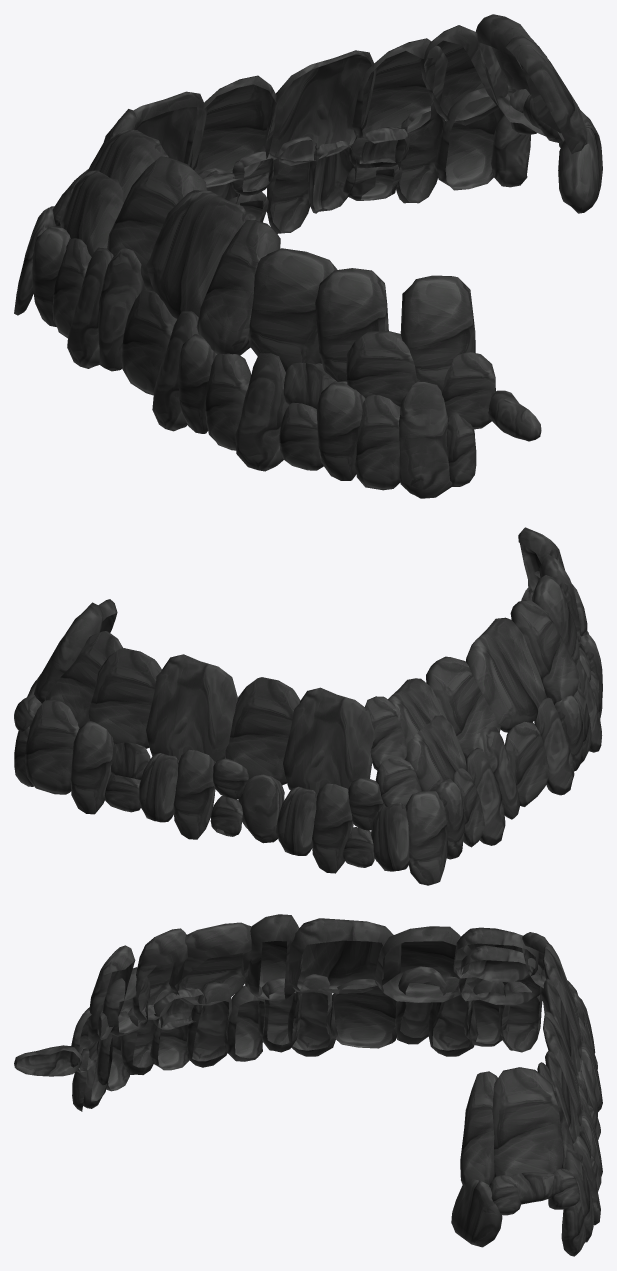
The model's file is rootIslandRocksMainShape1.dae.
The picture shows the model from 3 angles, top to bottom: view 1: azimuth 30°, elevation 25°; view 2: azimuth 150°, elevation 25°; view 3: azimuth 270°, elevation 25°; orthographic projection. The views are drawn at different scales.
Parts seen in each view (by area): view 1: rootIslandRocksMain1; view 2: rootIslandRocksMain1; view 3: rootIslandRocksMain1.
Boxes of the visible parts, x1,y1,x2,y2 form: rootIslandRocksMain1: (14, 14, 602, 498); rootIslandRocksMain1: (14, 527, 602, 885); rootIslandRocksMain1: (14, 914, 602, 1256).
Bounding box in the file's own units: 96.98 × 35.28 × 109.
